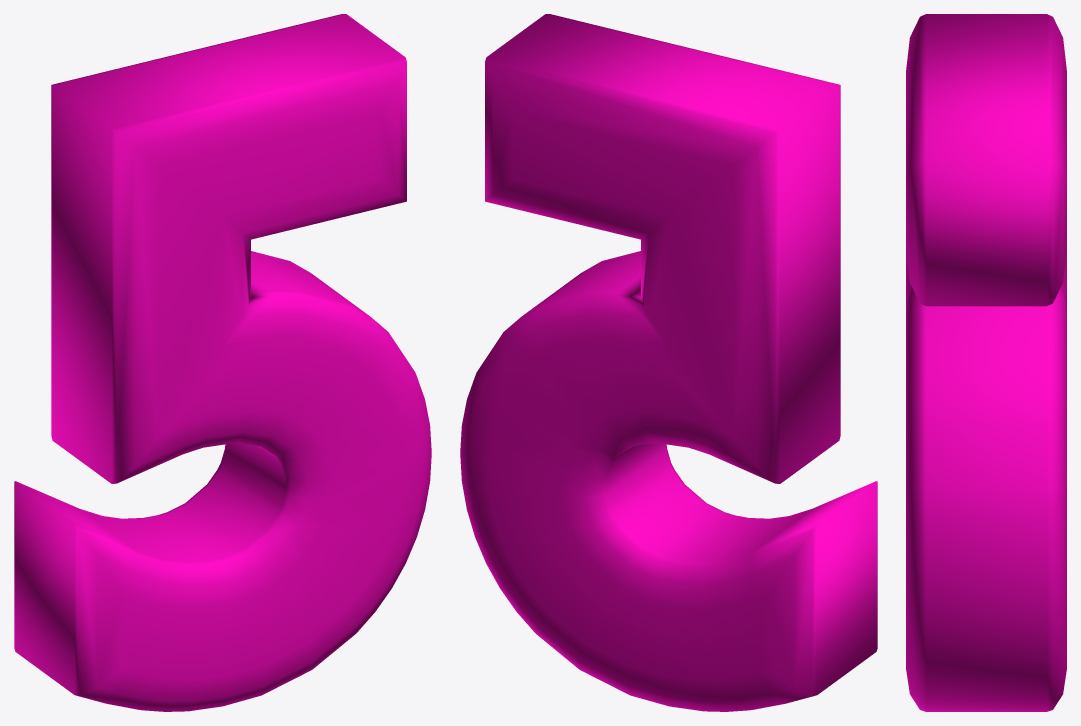
3 views of the same model, side by side, from view 1: azimuth 30°, elevation 25°; view 2: azimuth 150°, elevation 25°; view 3: azimuth 270°, elevation 25° (orthographic).
Parts seen in each view (by area): view 1: 5_Numbers006_0; view 2: 5_Numbers006_0; view 3: 5_Numbers006_0.
Part boxes in pixels (x1,y1,x2,y2): 5_Numbers006_0: (14, 14, 431, 711); 5_Numbers006_0: (460, 14, 877, 711); 5_Numbers006_0: (906, 14, 1066, 711).
Size of the model in its own units: 0.244 by 0.3954 by 0.0938.
